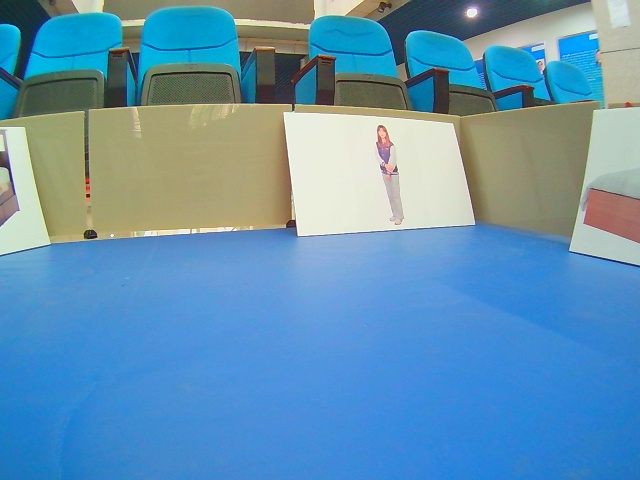person: (284, 110, 477, 236)
